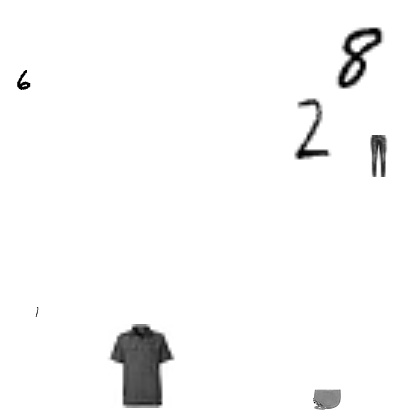1: (30, 305, 44, 319)
2: (268, 90, 352, 174)
6: (9, 68, 37, 96)
8: (315, 13, 399, 97)
Bag: (313, 385, 341, 413)
Shirt: (99, 324, 183, 408)
Trouser: (357, 135, 399, 177)
